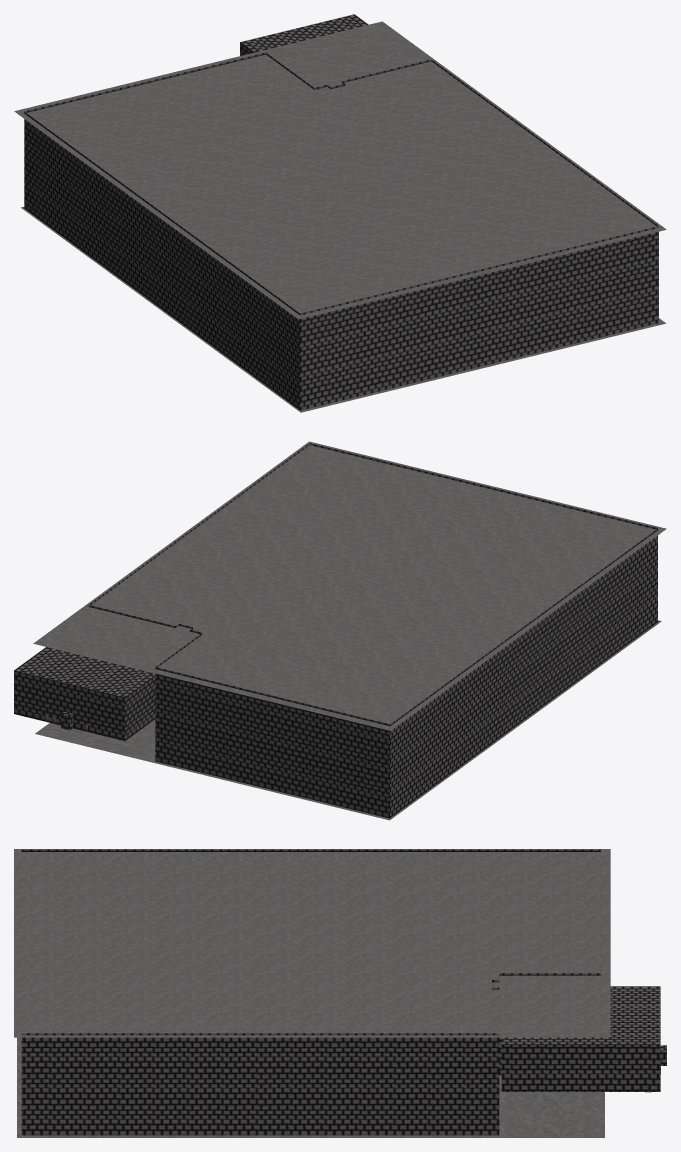
Rendered from level3_v3.fbx.
3 views of the same model, one above another, from view 1: azimuth 30°, elevation 25°; view 2: azimuth 150°, elevation 25°; view 3: azimuth 270°, elevation 25° (orthographic). The views are drawn at different scales.
Visible parts, largest first — view 1: pPlane10, polySurface38, pPlane9; view 2: pPlane10, polySurface38, pPlane9; view 3: pPlane10, polySurface38, pPlane9.
Boxes of the visible parts, <box> form: pPlane10: <box>14,21,666,319</box>; polySurface38: <box>24,14,658,410</box>; pPlane9: <box>21,206,666,412</box>; pPlane10: <box>33,441,666,730</box>; polySurface38: <box>14,443,657,818</box>; pPlane9: <box>35,620,661,820</box>; pPlane10: <box>14,849,610,1037</box>; polySurface38: <box>21,849,666,1135</box>; pPlane9: <box>17,1037,604,1137</box>.
Bounding box in the file's own units: 5686 × 1439 × 8299.
